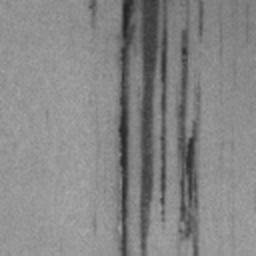Slag inclusion: (114, 0, 172, 256), (174, 0, 206, 256), (88, 0, 100, 32)
